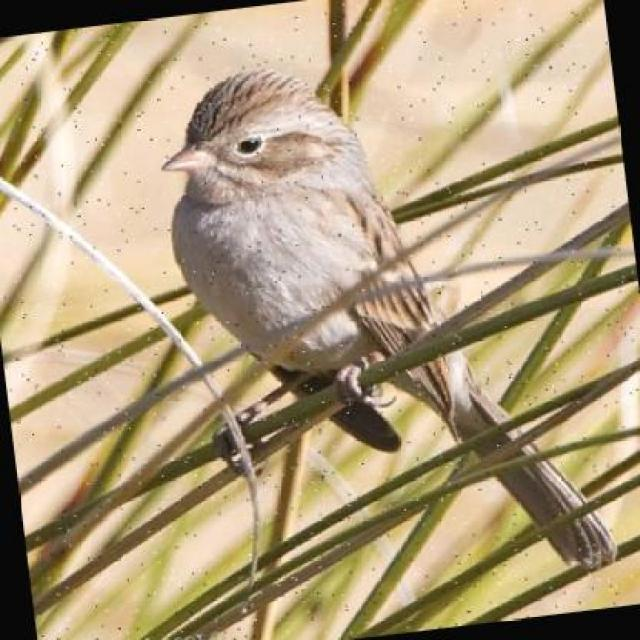Bird: (167, 64, 631, 589)
